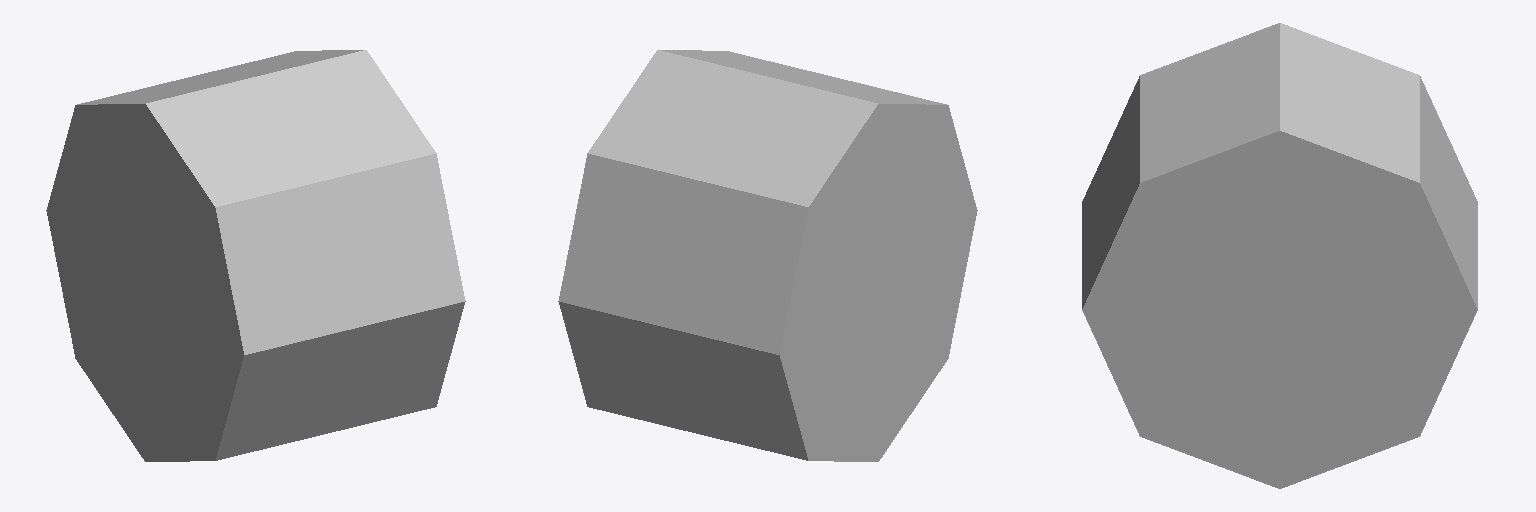
File: WheelRearR.obj
The picture shows the model from 3 angles: view 1: azimuth 30°, elevation 25°; view 2: azimuth 150°, elevation 25°; view 3: azimuth 270°, elevation 25°; orthographic projection.
Visible parts, largest first — view 1: WheelRearR; view 2: WheelRearR; view 3: WheelRearR.
Boxes of the visible parts, box(x1,y1,x2,y2) form: WheelRearR: box(46, 50, 465, 461); WheelRearR: box(558, 50, 977, 461); WheelRearR: box(1082, 23, 1477, 488).
Bounding box in the file's own units: 0.7999 × 1.24 × 1.24.